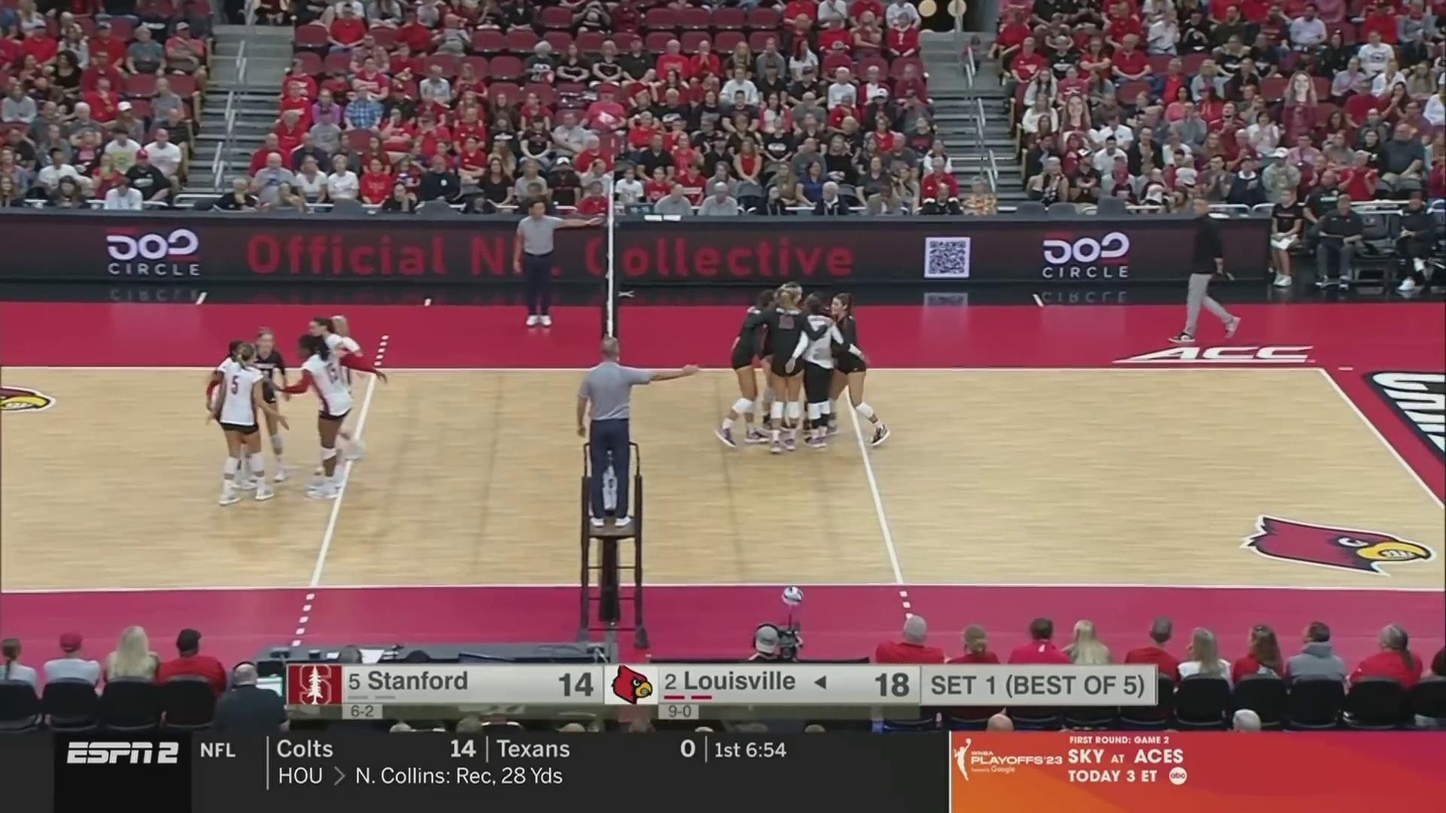player: (285, 334, 373, 496), (818, 292, 889, 444), (792, 295, 862, 449), (715, 292, 776, 443), (763, 282, 816, 453), (307, 318, 368, 464), (216, 345, 272, 502), (210, 340, 269, 489), (243, 324, 294, 482), (319, 315, 363, 465)
refree: (573, 338, 681, 520), (517, 198, 583, 328)
